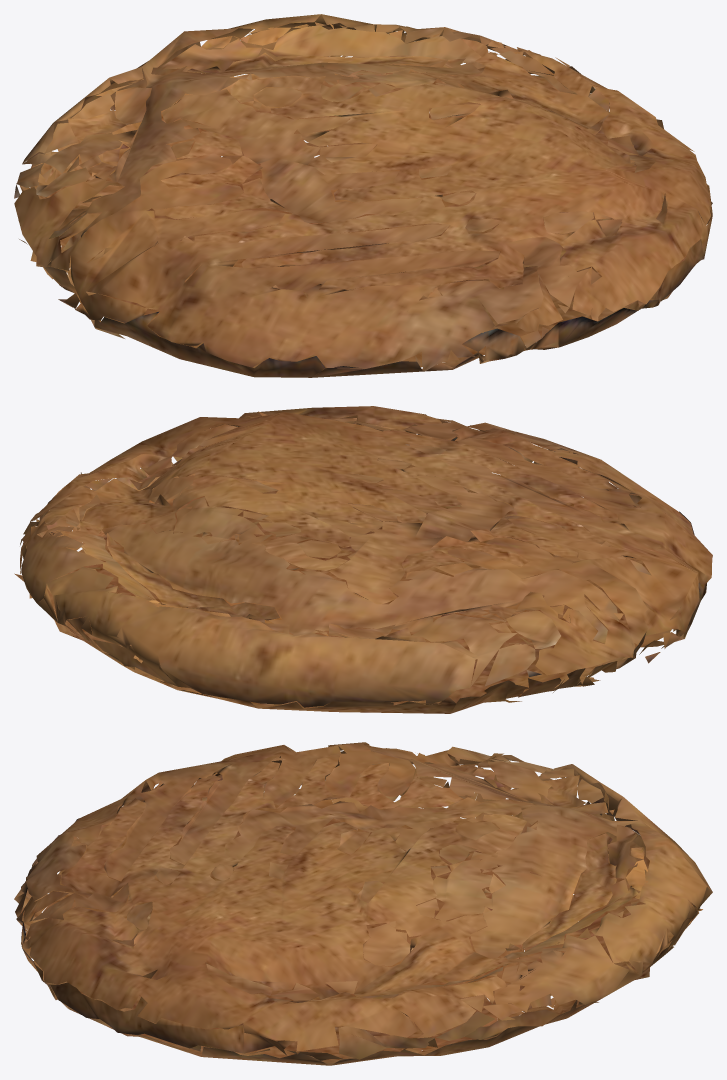
Rendered from brown-butter-snickerdoodle-cookie.gltf.
3 renders of one model, top to bottom at view 1: azimuth 30°, elevation 25°; view 2: azimuth 150°, elevation 25°; view 3: azimuth 270°, elevation 25°, orthographic. The views are drawn at different scales.
Parts seen in each view (by area): view 1: model_New Qlone_20211216_161234730; view 2: model_New Qlone_20211216_161234730; view 3: model_New Qlone_20211216_161234730.
Boxes of the visible parts, x1=… form: model_New Qlone_20211216_161234730: x1=14, y1=14, x2=712, y2=377; model_New Qlone_20211216_161234730: x1=14, y1=406, x2=712, y2=713; model_New Qlone_20211216_161234730: x1=14, y1=742, x2=712, y2=1065.
Bounding box in the file's own units: 7.2 × 1.12 × 7.26.
Materials: 1 (1 with a texture image).
